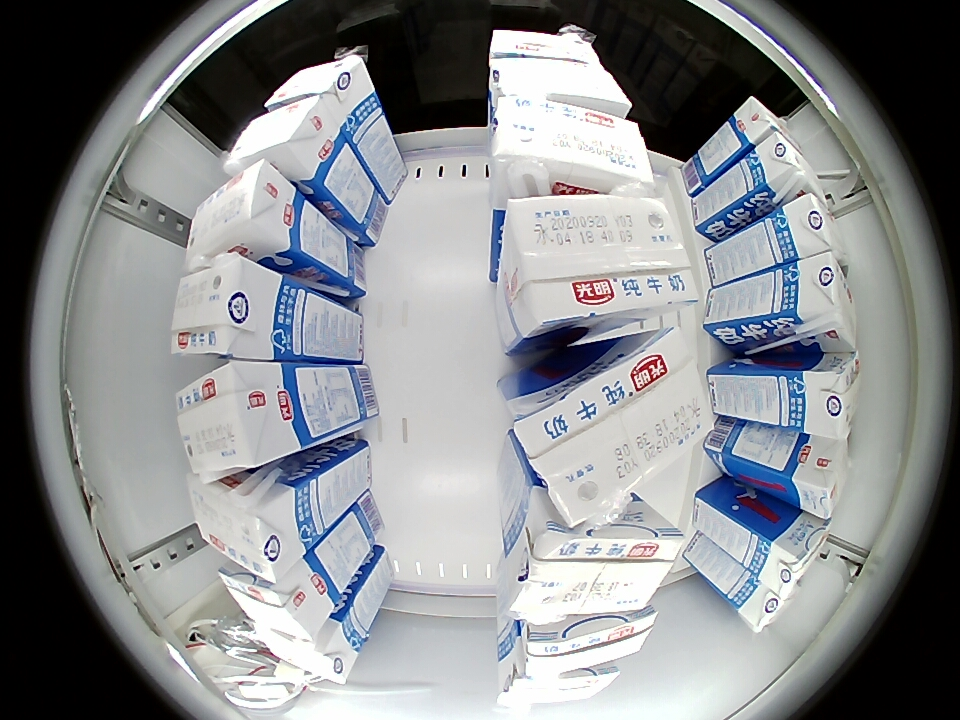niunai: (514, 323, 714, 527), (499, 191, 696, 342), (510, 518, 682, 621), (491, 98, 653, 193), (175, 360, 298, 480), (187, 472, 303, 585), (185, 160, 297, 269), (170, 255, 281, 360), (223, 93, 340, 183), (514, 606, 658, 677), (218, 562, 329, 641), (488, 57, 633, 116), (255, 620, 359, 689), (789, 252, 858, 352), (265, 54, 370, 119), (760, 510, 832, 594), (789, 434, 852, 520), (800, 351, 861, 439), (499, 664, 620, 708), (754, 134, 826, 206), (779, 192, 849, 265), (488, 29, 599, 69), (731, 97, 801, 155), (738, 573, 802, 633)
